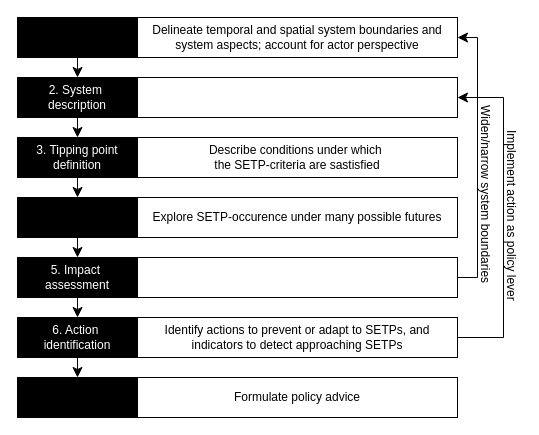
This 539x435 diagram has some shape labels left out. Each missing label, with the box of its shape:
1. System delineation: (16, 16, 138, 58)
4. Tipping point identification: (16, 196, 138, 238)
7. Decision support: (16, 376, 138, 418)
Assess SETP-impact within the system and in the wider system context: (136, 256, 458, 298)
Describe the system using the XLRM-framework: (136, 76, 458, 118)
